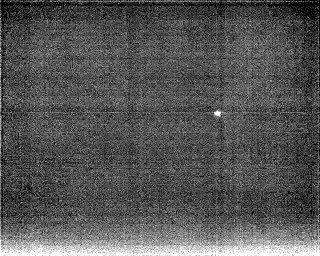AIRPLANE: (212, 108, 223, 119)
